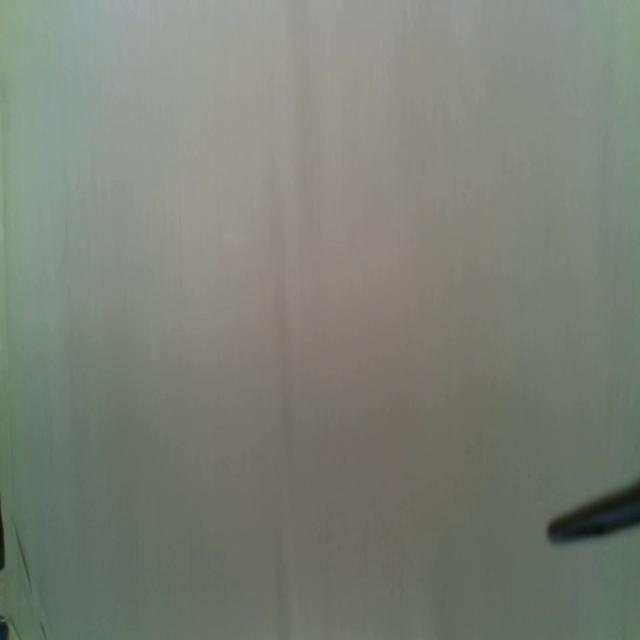crease: (14, 532, 34, 594)
hole: (0, 500, 7, 572), (0, 613, 11, 639)
